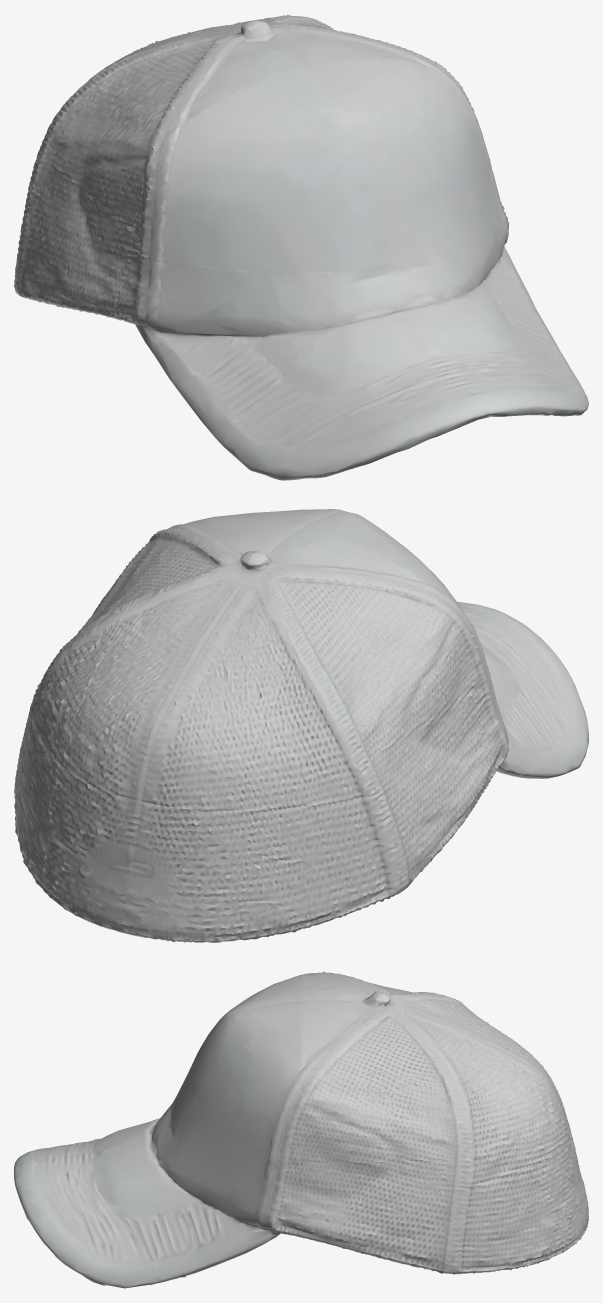
File: gorra_web.glb
The picture shows the model from 3 angles, top to bottom: view 1: azimuth 30°, elevation 25°; view 2: azimuth 150°, elevation 25°; view 3: azimuth 270°, elevation 25°; orthographic projection. The views are drawn at different scales.
Bounding box in the file's own units: 0.6371 × 0.4456 × 0.9988.
1 material, 1 textured.
